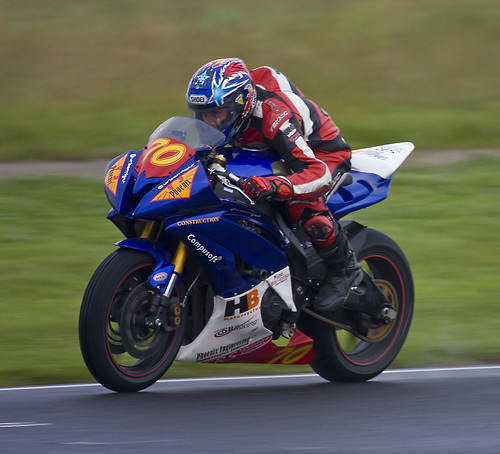helmet: (180, 50, 257, 123)
